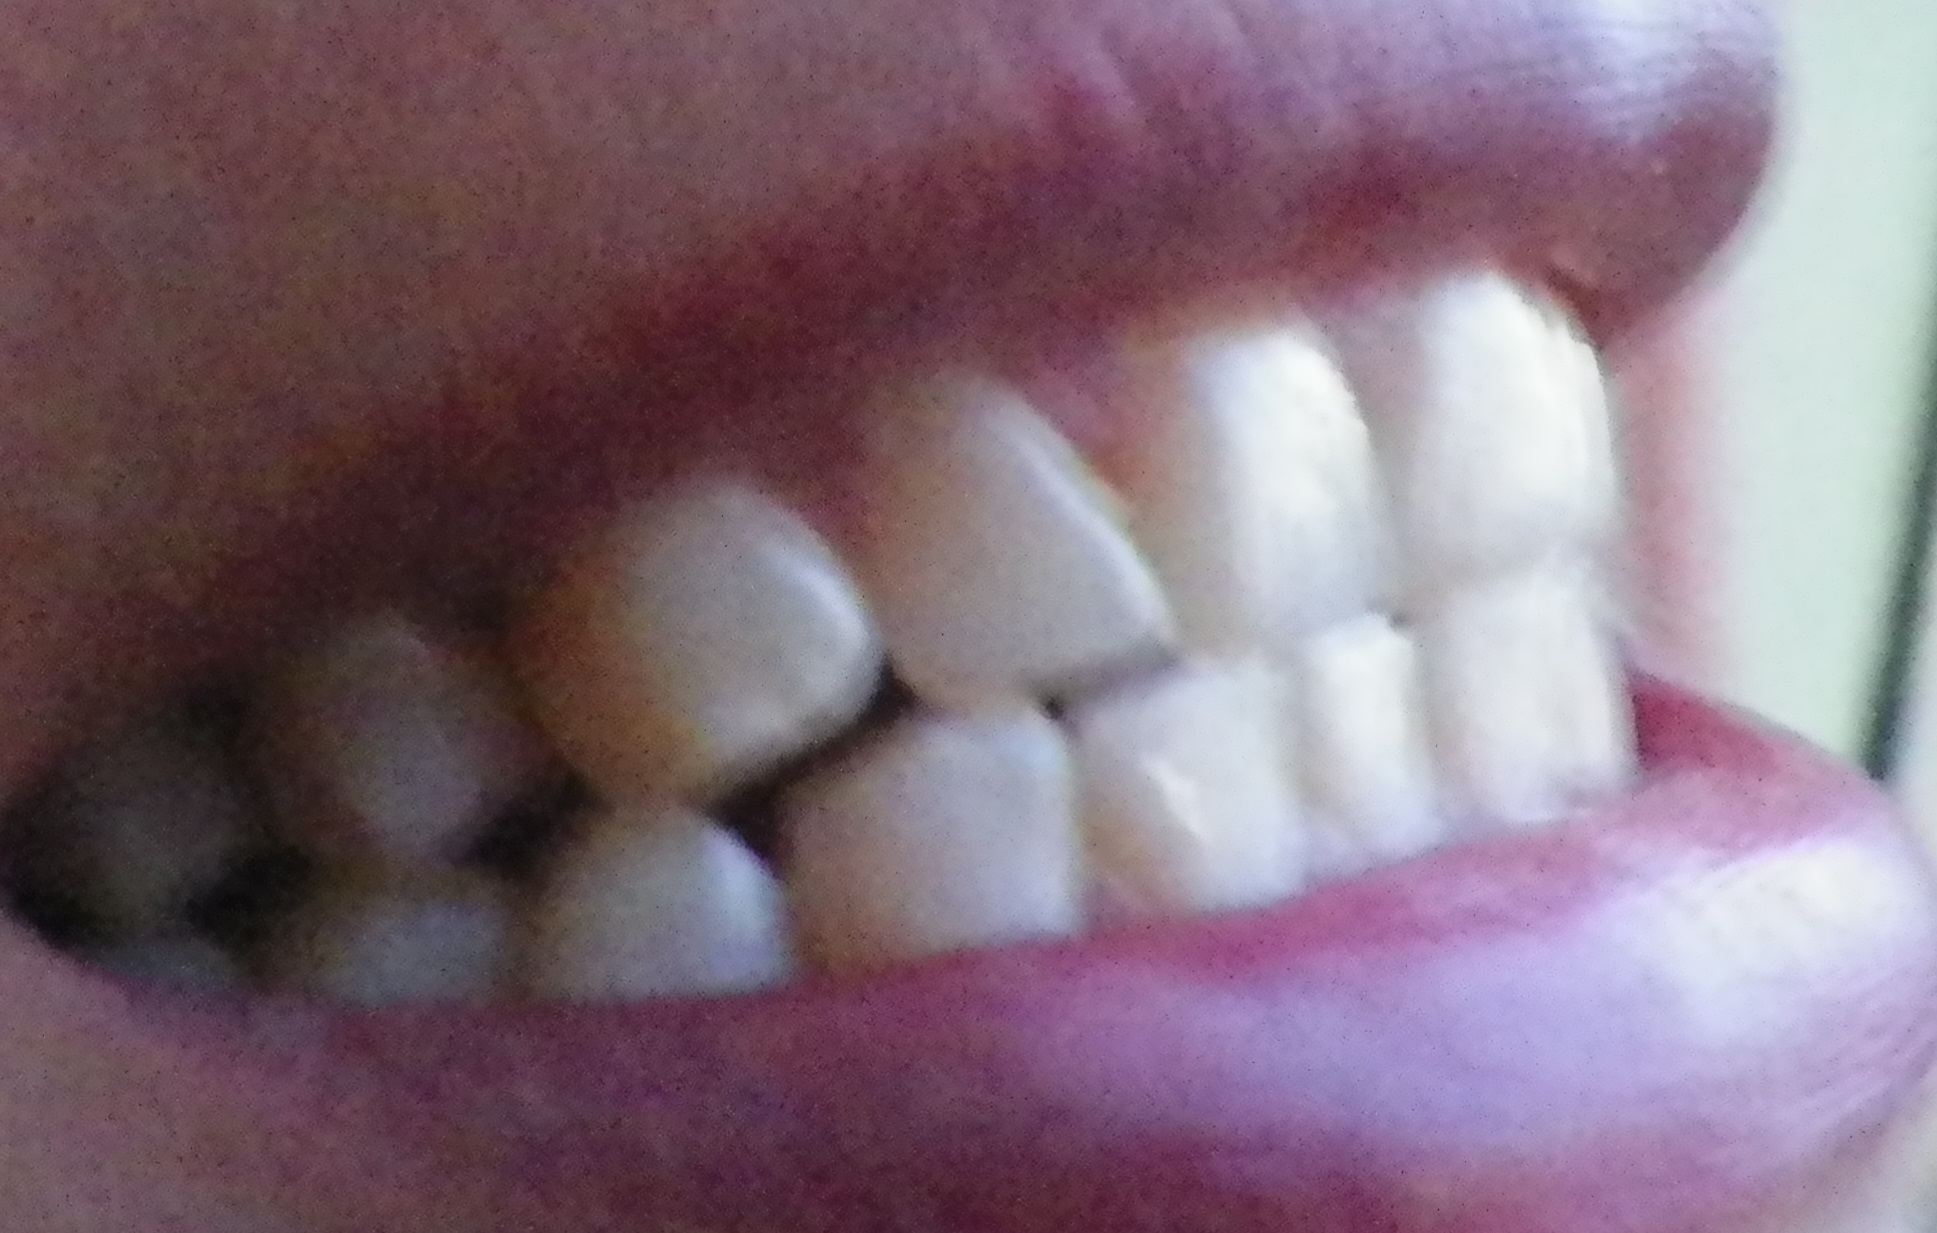boca: (25, 284, 1639, 1023)
